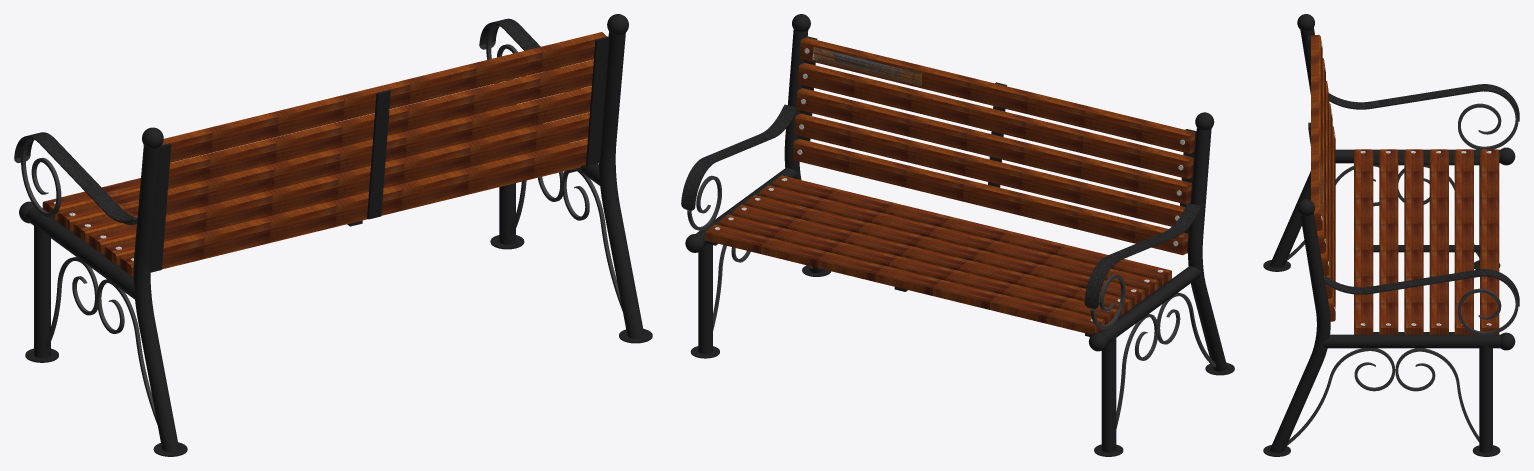
3 renders of one model, left to right at view 1: azimuth 30°, elevation 25°; view 2: azimuth 150°, elevation 25°; view 3: azimuth 270°, elevation 25°, orthographic. The views are drawn at different scales.
Parts seen in each view (by area): view 1: mesh5_mesh5-geometry, mesh56_mesh56-geometry, mesh20_mesh20-geometry, mesh42_mesh42-geometry, mesh66_mesh66-geometry, mesh60_mesh60-geometry, mesh1_mesh1-geometry, mesh18_mesh18-geometry, mesh54_mesh54-geometry, mesh6_mesh6-geometry, mesh64_mesh64-geometry, mesh28_mesh28-geometry (+2 smaller); view 2: mesh5_mesh5-geometry, mesh56_mesh56-geometry, mesh6_mesh6-geometry, mesh42_mesh42-geometry, mesh60_mesh60-geometry, mesh66_mesh66-geometry, mesh24_mesh24-geometry, mesh78_mesh78-geometry, mesh20_mesh20-geometry, mesh72_mesh72-geometry, mesh64_mesh64-geometry, mesh30_mesh30-geometry; view 3: mesh5_mesh5-geometry, mesh20_mesh20-geometry, mesh30_mesh30-geometry, mesh6_mesh6-geometry, mesh42_mesh42-geometry, mesh24_mesh24-geometry, mesh56_mesh56-geometry, mesh28_mesh28-geometry, mesh36_mesh36-geometry, mesh66_mesh66-geometry, mesh45_mesh45-geometry.
Boxes of the visible parts, x1=… form: mesh5_mesh5-geometry: x1=42, y1=32, x2=606, y2=276; mesh56_mesh56-geometry: x1=133, y1=145, x2=179, y2=452; mesh20_mesh20-geometry: x1=599, y1=31, x2=644, y2=338; mesh42_mesh42-geometry: x1=14, y1=132, x2=137, y2=224; mesh66_mesh66-geometry: x1=26, y1=207, x2=135, y2=299; mesh60_mesh60-geometry: x1=34, y1=224, x2=50, y2=358; mesh1_mesh1-geometry: x1=367, y1=90, x2=390, y2=219; mesh18_mesh18-geometry: x1=586, y1=36, x2=609, y2=165; mesh54_mesh54-geometry: x1=150, y1=143, x2=171, y2=272; mesh6_mesh6-geometry: x1=479, y1=18, x2=580, y2=92; mesh64_mesh64-geometry: x1=96, y1=279, x2=157, y2=424; mesh28_mesh28-geometry: x1=562, y1=171, x2=622, y2=310; mesh5_mesh5-geometry: x1=705, y1=37, x2=1195, y2=334; mesh56_mesh56-geometry: x1=1188, y1=128, x2=1227, y2=371; mesh6_mesh6-geometry: x1=681, y1=104, x2=797, y2=230; mesh42_mesh42-geometry: x1=1084, y1=203, x2=1201, y2=329; mesh60_mesh60-geometry: x1=1101, y1=336, x2=1116, y2=452; mesh66_mesh66-geometry: x1=1099, y1=266, x2=1202, y2=343; mesh24_mesh24-geometry: x1=698, y1=243, x2=712, y2=354; mesh78_mesh78-geometry: x1=812, y1=46, x2=922, y2=86; mesh20_mesh20-geometry: x1=784, y1=29, x2=823, y2=272; mesh72_mesh72-geometry: x1=1116, y1=314, x2=1158, y2=428; mesh64_mesh64-geometry: x1=1157, y1=292, x2=1216, y2=366; mesh30_mesh30-geometry: x1=696, y1=168, x2=798, y2=245; mesh5_mesh5-geometry: x1=1311, y1=34, x2=1499, y2=334; mesh20_mesh20-geometry: x1=1269, y1=213, x2=1330, y2=452; mesh30_mesh30-geometry: x1=1322, y1=334, x2=1500, y2=348; mesh6_mesh6-geometry: x1=1325, y1=269, x2=1519, y2=335; mesh42_mesh42-geometry: x1=1329, y1=84, x2=1519, y2=150; mesh24_mesh24-geometry: x1=1479, y1=345, x2=1492, y2=452; mesh56_mesh56-geometry: x1=1269, y1=28, x2=1314, y2=267; mesh28_mesh28-geometry: x1=1286, y1=348, x2=1395, y2=445; mesh36_mesh36-geometry: x1=1395, y1=348, x2=1479, y2=442; mesh66_mesh66-geometry: x1=1335, y1=149, x2=1500, y2=163; mesh45_mesh45-geometry: x1=1373, y1=157, x2=1479, y2=165.
Bounding box in the file's own units: 0.7766 × 0.4625 × 0.4277.
